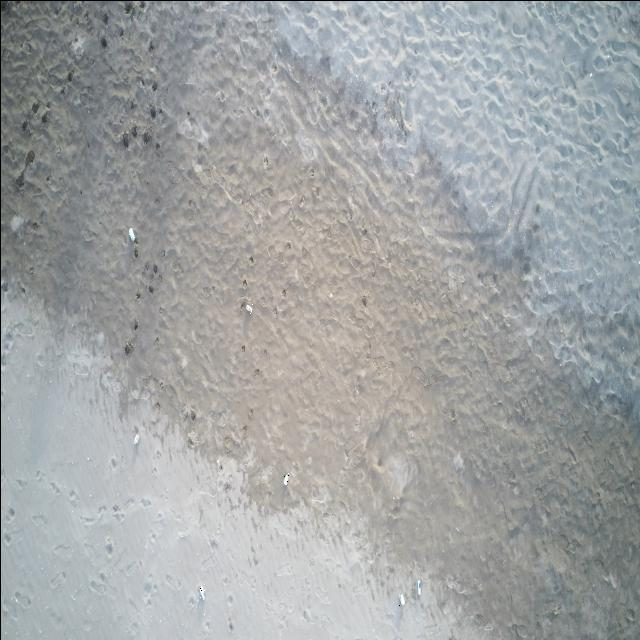Garbage: (452, 453, 463, 472), (128, 227, 135, 241), (132, 432, 139, 444), (244, 303, 252, 313), (415, 579, 420, 595), (399, 592, 404, 606), (283, 472, 287, 484), (200, 584, 203, 600)
